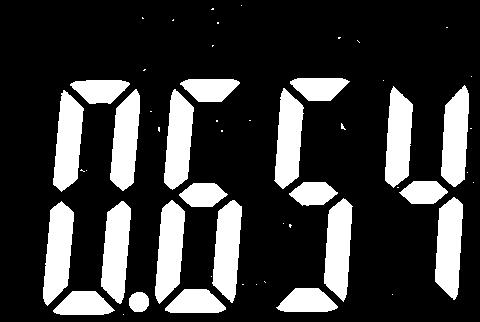0: (40, 75, 143, 316)
4: (381, 81, 470, 298)
5: (272, 75, 354, 313)
6: (153, 74, 243, 313)
dot: (130, 288, 150, 311)
